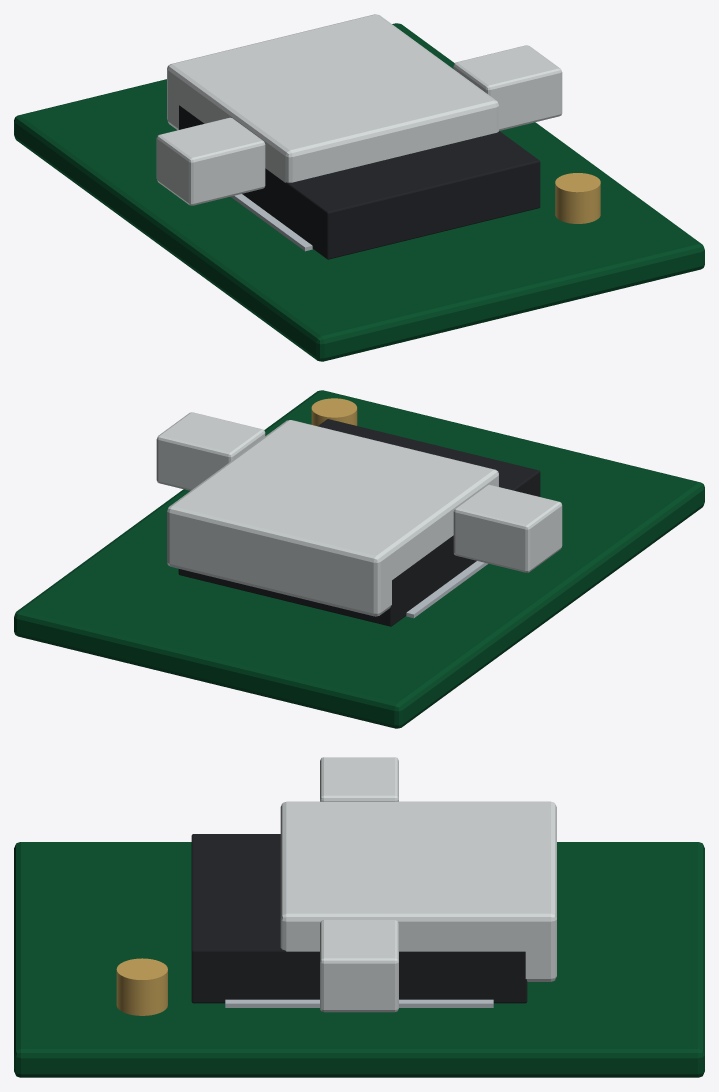
Rendered from gps_adafruit_ultimate.glb.
The picture shows the model from 3 angles, top to bottom: view 1: azimuth 30°, elevation 25°; view 2: azimuth 150°, elevation 25°; view 3: azimuth 270°, elevation 25°; orthographic projection. The views are drawn at different scales.
Visible parts, largest first — view 1: part_gps_adafruit_ultimate__pcb, part_gps_adafruit_ultimate__polymer, part_gps_adafruit_ultimate__black_polymer, part_gps_adafruit_ultimate__brass, part_gps_adafruit_ultimate__steel; view 2: part_gps_adafruit_ultimate__pcb, part_gps_adafruit_ultimate__polymer, part_gps_adafruit_ultimate__black_polymer, part_gps_adafruit_ultimate__brass, part_gps_adafruit_ultimate__steel; view 3: part_gps_adafruit_ultimate__pcb, part_gps_adafruit_ultimate__polymer, part_gps_adafruit_ultimate__black_polymer, part_gps_adafruit_ultimate__brass, part_gps_adafruit_ultimate__steel.
Boxes of the visible parts, x1=… form: part_gps_adafruit_ultimate__pcb: x1=14, y1=23, x2=704, y2=361; part_gps_adafruit_ultimate__polymer: x1=156, y1=14, x2=562, y2=205; part_gps_adafruit_ultimate__black_polymer: x1=178, y1=105, x2=540, y2=259; part_gps_adafruit_ultimate__brass: x1=555, y1=173, x2=600, y2=223; part_gps_adafruit_ultimate__steel: x1=231, y1=194, x2=312, y2=251; part_gps_adafruit_ultimate__pcb: x1=14, y1=390, x2=704, y2=728; part_gps_adafruit_ultimate__polymer: x1=156, y1=412, x2=562, y2=616; part_gps_adafruit_ultimate__black_polymer: x1=178, y1=419, x2=540, y2=626; part_gps_adafruit_ultimate__brass: x1=311, y1=398, x2=357, y2=426; part_gps_adafruit_ultimate__steel: x1=406, y1=561, x2=487, y2=618; part_gps_adafruit_ultimate__pcb: x1=14, y1=842, x2=704, y2=1077; part_gps_adafruit_ultimate__polymer: x1=280, y1=757, x2=556, y2=1012; part_gps_adafruit_ultimate__black_polymer: x1=191, y1=834, x2=527, y2=1003; part_gps_adafruit_ultimate__brass: x1=116, y1=958, x2=167, y2=1015; part_gps_adafruit_ultimate__steel: x1=225, y1=999, x2=493, y2=1007.
Bounding box in the file's own units: 0.0255 × 0.0065 × 0.035.
